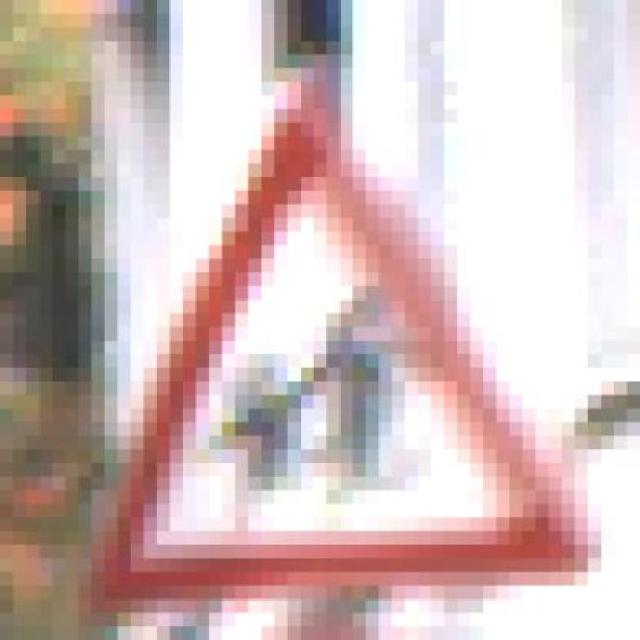Beware of children: (78, 82, 614, 612)
